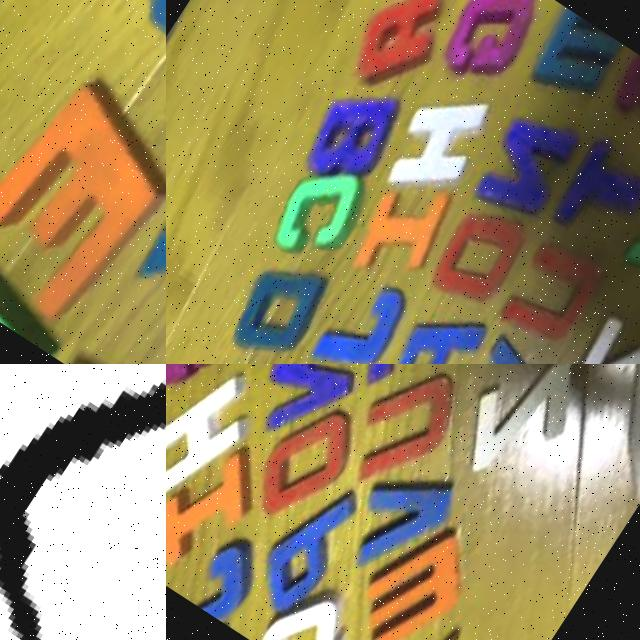A: (341, 0, 458, 99)
B: (298, 84, 402, 195)
C: (265, 155, 375, 277)
D: (223, 260, 325, 364)
E: (0, 63, 166, 333)
G: (431, 0, 548, 96), (166, 364, 259, 402)
H: (166, 364, 272, 505), (378, 84, 494, 209)
I: (166, 428, 273, 583), (342, 175, 456, 298)
J: (303, 261, 416, 364), (187, 520, 278, 625)
N: (467, 96, 591, 230), (248, 364, 387, 450)
O: (240, 396, 366, 536), (425, 200, 532, 312)
P: (248, 474, 371, 620), (381, 303, 491, 364)
Q: (255, 578, 361, 640)
T: (543, 132, 640, 252), (345, 364, 463, 395)
U: (338, 364, 472, 499), (494, 230, 611, 355)
V: (333, 450, 467, 592), (449, 333, 561, 364)
W: (341, 508, 487, 640)
X: (349, 617, 478, 640)
Y: (613, 189, 640, 317)
Z: (444, 364, 592, 502), (557, 300, 640, 364)
